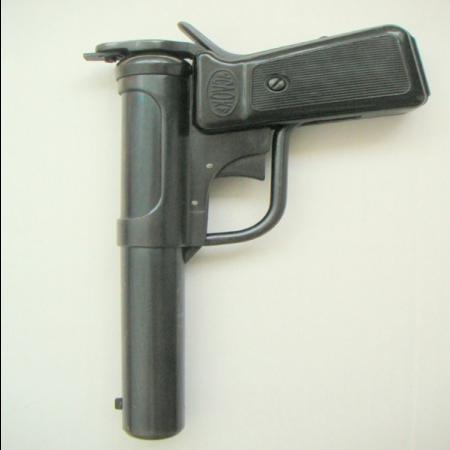Pistol: (79, 21, 422, 441)
